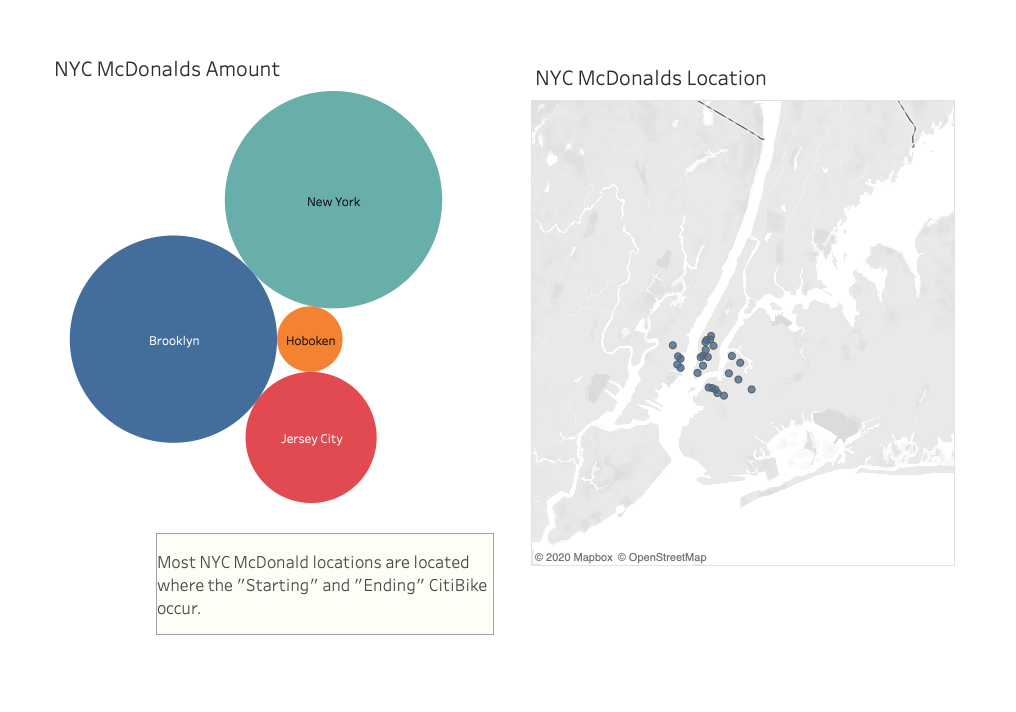

The dashboard page shown, as its layout file describes it:
{"tool":"tableau","page":{"name":"NYC McDonalds","canvas":[1000,800],"ordinal":5},"visuals":[{"type":"worksheet","title":"NYC McDonalds Amount","mark":"Circle","box":[30,44,412,474]},{"type":"worksheet","title":"NYC McDonalds Location","mark":"Multipolygon","rows":["latitude"],"cols":["longitude"],"box":[511,53,424,509]}]}

Visuals, with their boxes on the page's 1000x800 design canvas (x1, y1, x2, y2). These are canvas units, not pixel positions in the 1016x712 screenshot, which may show the page scaled, cropped or inside an application window:
"NYC McDonalds Amount" worksheet (Circle marks): x1=30, y1=44, x2=442, y2=518
"NYC McDonalds Location" worksheet (Multipolygon marks): x1=511, y1=53, x2=935, y2=562
